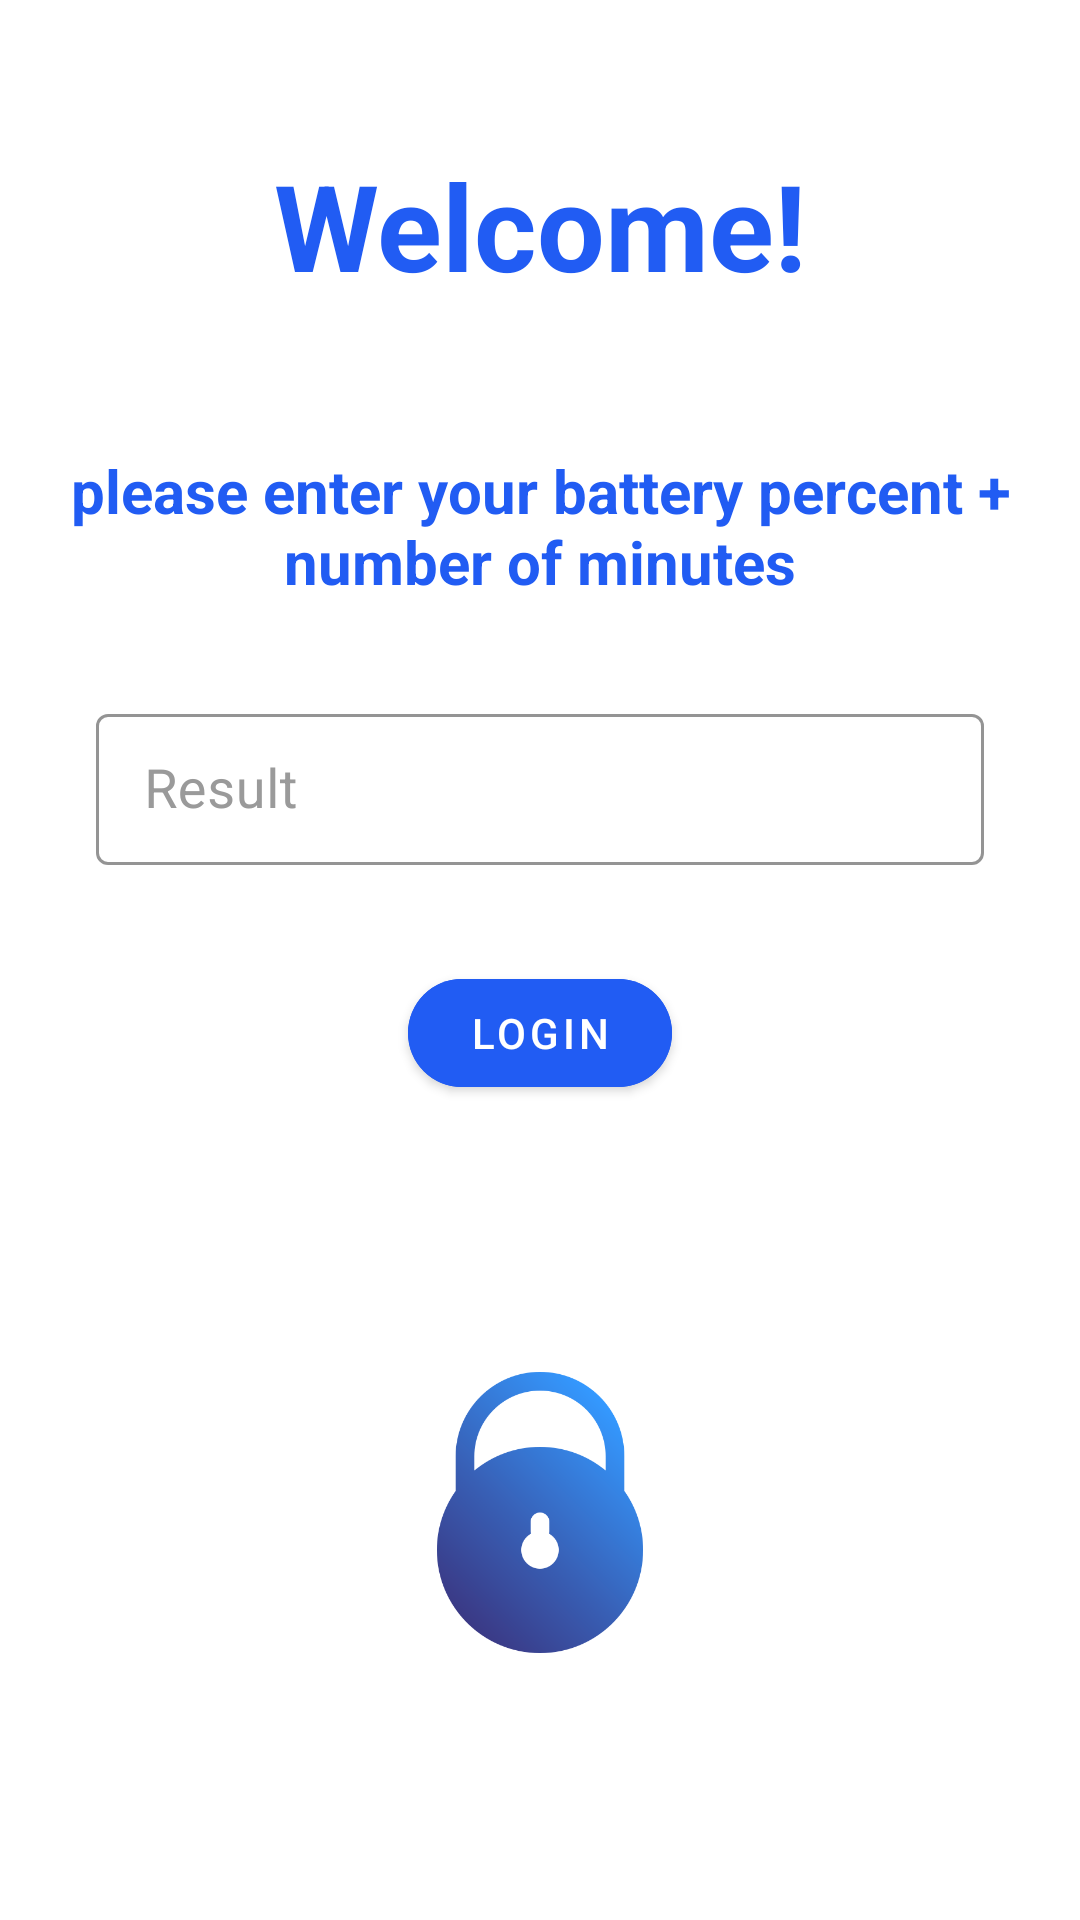

Point at icon controls on the screen. Image size 1080 x 1920, points as point (x, y).
locked: point (540, 1512)
